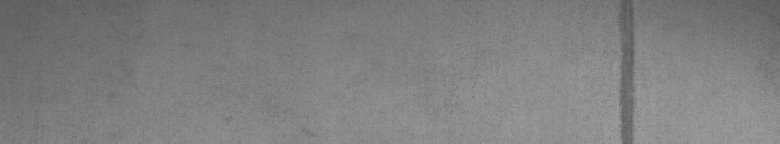hd: (613, 4, 640, 136)
